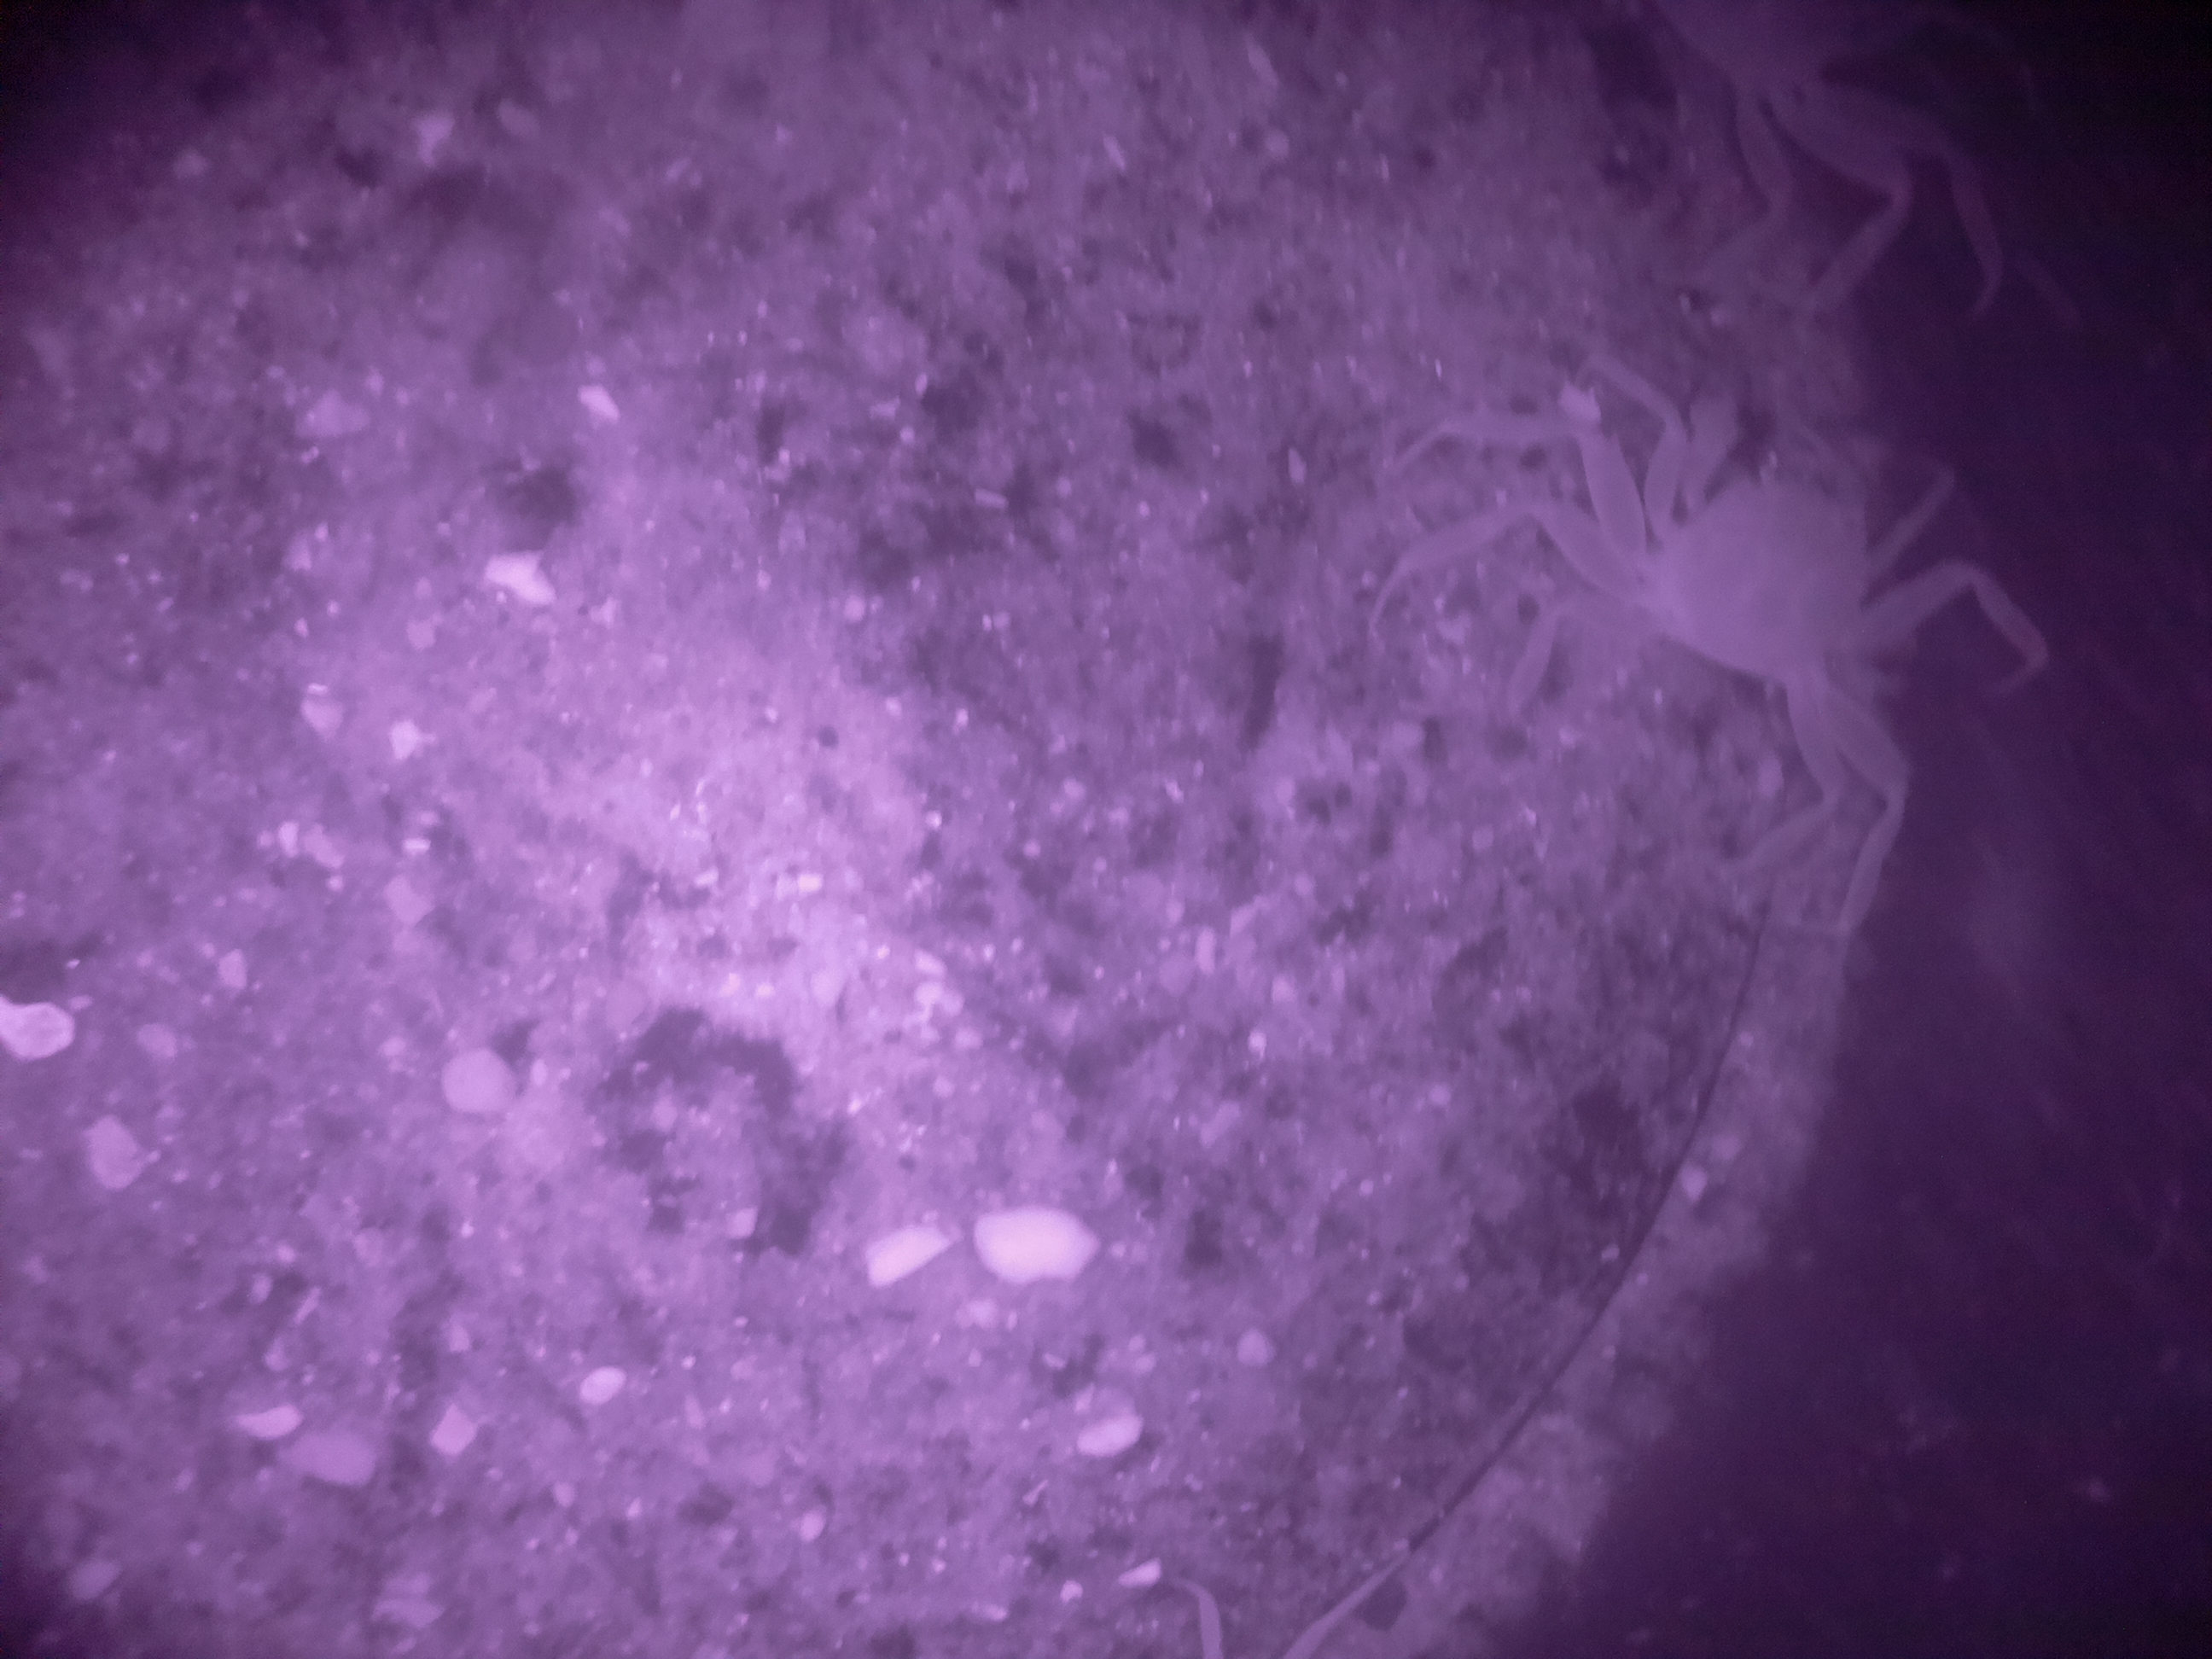Crab: (1522, 324, 1956, 805)
